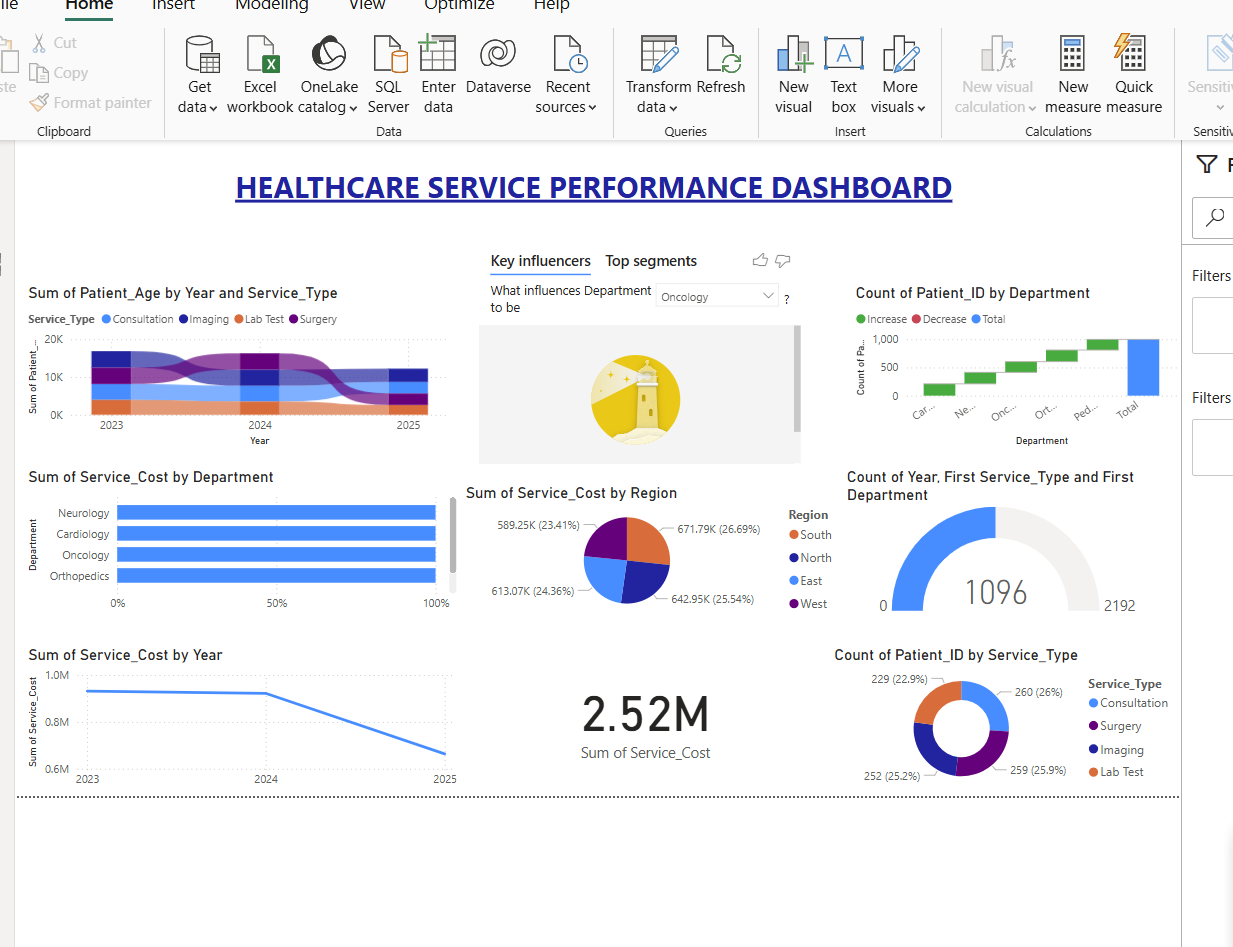

The page's visual inventory and layout, read from the dashboard file:
{"tool":"powerbi","page":{"name":"Page 1","canvas":[1280,720],"ordinal":0},"visuals":[{"type":"card","fields":{"Values":["Sum(healthcare_services_data.Service_Cost)"]},"box":[489.9,547.5,404.8,171.5],"z":0},{"type":"textbox","box":[0,24.7,1270.7,70],"z":1},{"type":"lineChart","fields":{"Category":["DateTable.Date.Variation.Date Hierarchy.Year","DateTable.Date.Variation.Date Hierarchy.Quarter","DateTable.Date.Variation.Date Hierarchy.Month","DateTable.Date.Variation.Date Hierarchy.Day"],"Y":["Sum(healthcare_services_data.Service_Cost)"]},"box":[9.6,554.4,480.3,166],"z":2},{"type":"hundredPercentStackedBarChart","fields":{"Y":["Sum(healthcare_services_data.Service_Cost)"],"Category":["healthcare_services_data.Department"]},"box":[9.6,359.5,480.3,167.4],"z":3},{"type":"pieChart","fields":{"Category":["healthcare_services_data.Region"],"Y":["Sum(healthcare_services_data.Service_Cost)"]},"box":[489.9,377.4,428.1,149.6],"z":4},{"type":"donutChart","fields":{"Category":["healthcare_services_data.Service_Type"],"Y":["CountNonNull(healthcare_services_data.Patient_ID)"]},"box":[894.7,554.4,385.6,164.7],"z":5},{"type":"gauge","fields":{"Y":["CountNonNull(healthcare_services_data.Month.Variation.Date Hierarchy.Year)"]},"box":[908.4,359.5,362.3,167.4],"z":6},{"type":"keyDriversVisual","fields":{"Target":["healthcare_services_data.Department"],"ExplainBy":["healthcare_services_data.Gender"]},"box":[505,108.4,362.3,251.1],"z":7},{"type":"ribbonChart","fields":{"Category":["DateTable.Date.Variation.Date Hierarchy.Year"],"Series":["healthcare_services_data.Service_Type"],"Y":["Sum(healthcare_services_data.Patient_Age)"]},"box":[9.6,157.8,470.7,183.9],"z":8},{"type":"waterfallChart","fields":{"Category":["healthcare_services_data.Department","healthcare_services_data.Month.Variation.Date Hierarchy.Quarter","healthcare_services_data.Month.Variation.Date Hierarchy.Month"],"Y":["CountNonNull(healthcare_services_data.Patient_ID)"]},"box":[918,157.8,362.3,183.9],"z":9}]}

Visuals, with their boxes on the page's 1280x720 design canvas (x1, y1, x2, y2). These are canvas units, not pixel positions in the 1233x947 screenshot, which may show the page scaled, cropped or inside an application window:
card - Sum(healthcare_services_data.Service_Cost): (490,548,895,719)
textbox: (0,25,1271,95)
lineChart - DateTable.Date.Variation.Date Hierarchy.Year x DateTable.Date.Variation.Date Hierarchy.Quarter: (10,554,490,720)
hundredPercentStackedBarChart - Sum(healthcare_services_data.Service_Cost) x healthcare_services_data.Department: (10,360,490,527)
pieChart - healthcare_services_data.Region x Sum(healthcare_services_data.Service_Cost): (490,377,918,527)
donutChart - healthcare_services_data.Service_Type x CountNonNull(healthcare_services_data.Patient_ID): (895,554,1280,719)
gauge - CountNonNull(healthcare_services_data.Month.Variation.Date Hierarchy.Year): (908,360,1271,527)
keyDriversVisual - healthcare_services_data.Department x healthcare_services_data.Gender: (505,108,867,360)
ribbonChart - DateTable.Date.Variation.Date Hierarchy.Year x healthcare_services_data.Service_Type: (10,158,480,342)
waterfallChart - healthcare_services_data.Department x healthcare_services_data.Month.Variation.Date Hierarchy.Quarter: (918,158,1280,342)
